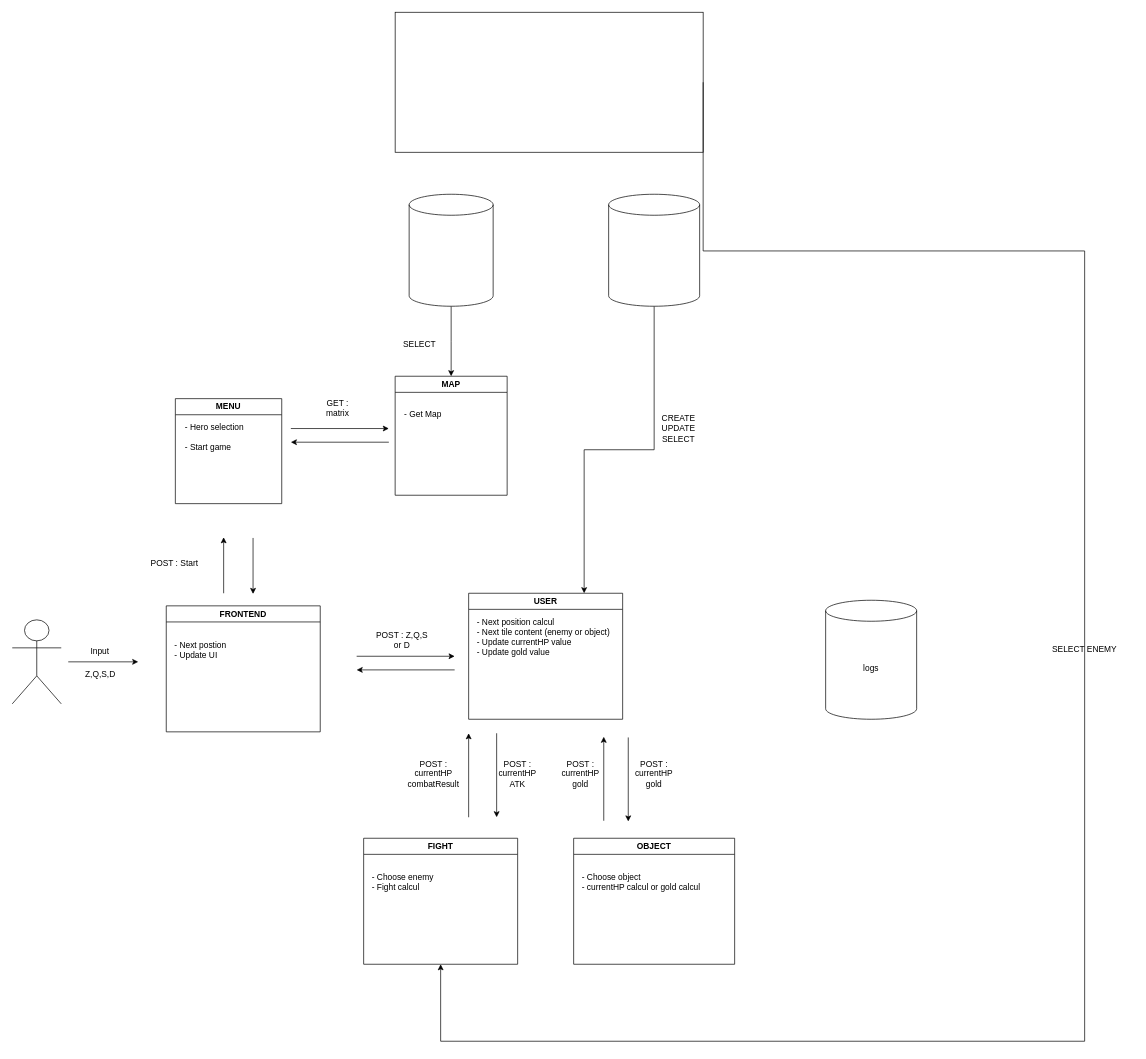
Image size: 1146x1059. Some labels were removed from this diagram. Here are the shapes that lost their labels. From the top down, the centre of each, then its label:
At (x=450, y=250): "mapMatrix ID".
At (x=654, y=250): "Name type level dunjonNb ID maxHP gold ATK".
At (x=36, y=661): "Player".
